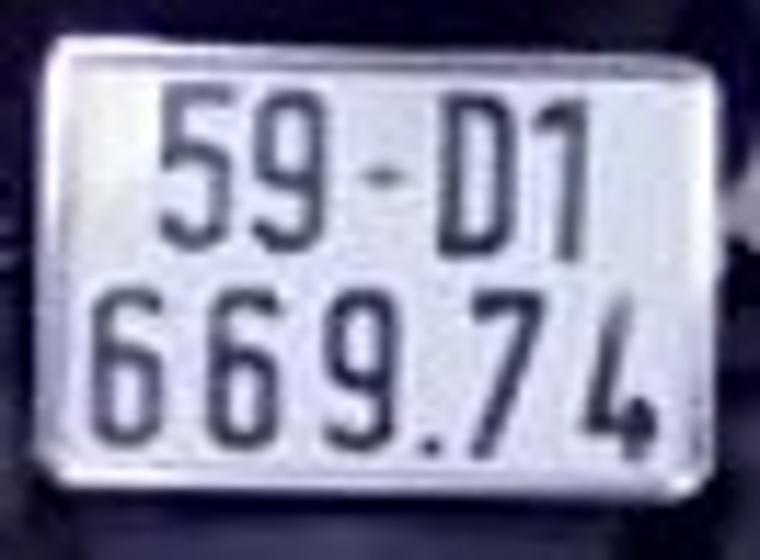-: (356, 165, 409, 190)
.: (417, 431, 447, 469)
1: (531, 96, 594, 256)
4: (572, 287, 663, 463)
5: (151, 77, 239, 263)
6: (80, 282, 172, 447), (202, 278, 285, 448)
7: (463, 282, 548, 462)
9: (250, 82, 331, 259), (321, 278, 402, 455)
D: (433, 81, 526, 264)
